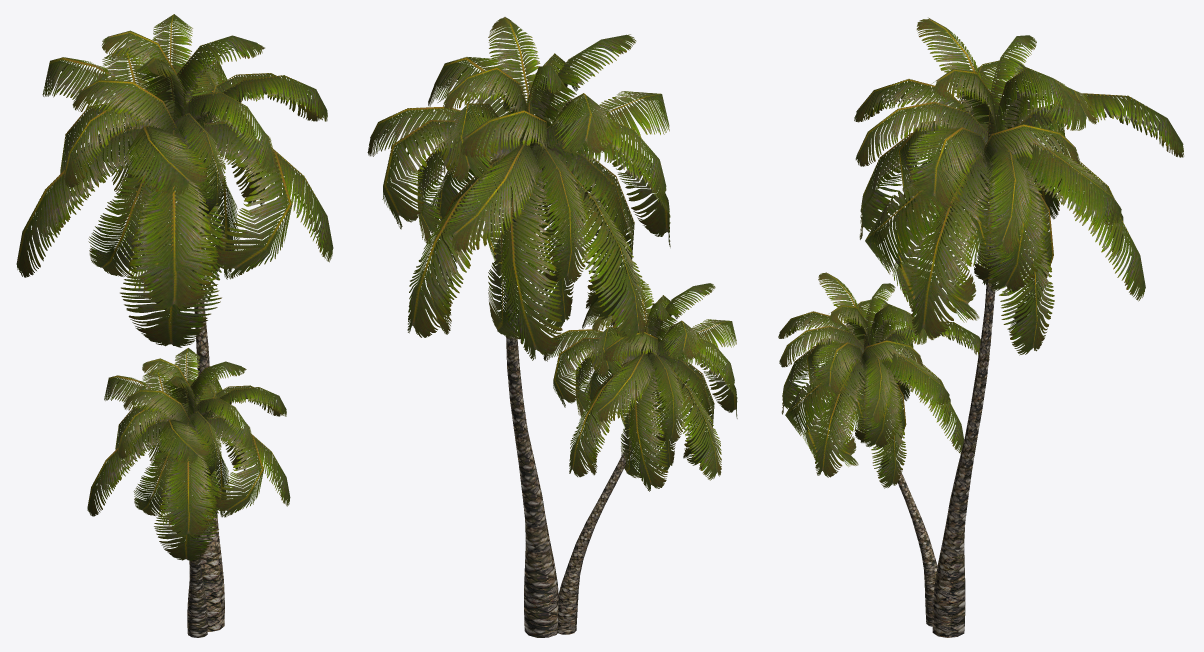
File: tree_palm_tropical_04.dae
3 renders of one model, left to right at view 1: azimuth 30°, elevation 25°; view 2: azimuth 150°, elevation 25°; view 3: azimuth 270°, elevation 25°, orthographic. The views are drawn at different scales.
Parts seen in each view (by area): view 1: palm_dual; view 2: palm_dual; view 3: palm_dual.
Part boxes in pixels (x1,y1,x2,y2): palm_dual: (16, 14, 333, 637); palm_dual: (367, 17, 737, 637); palm_dual: (778, 17, 1183, 637).
Size of the model in its own units: 13.29 by 16.67 by 25.64.
